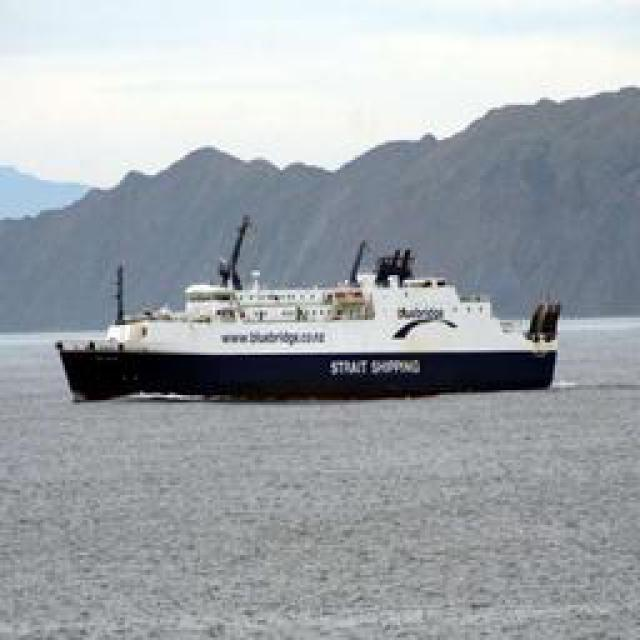Ship: (66, 222, 574, 400)
